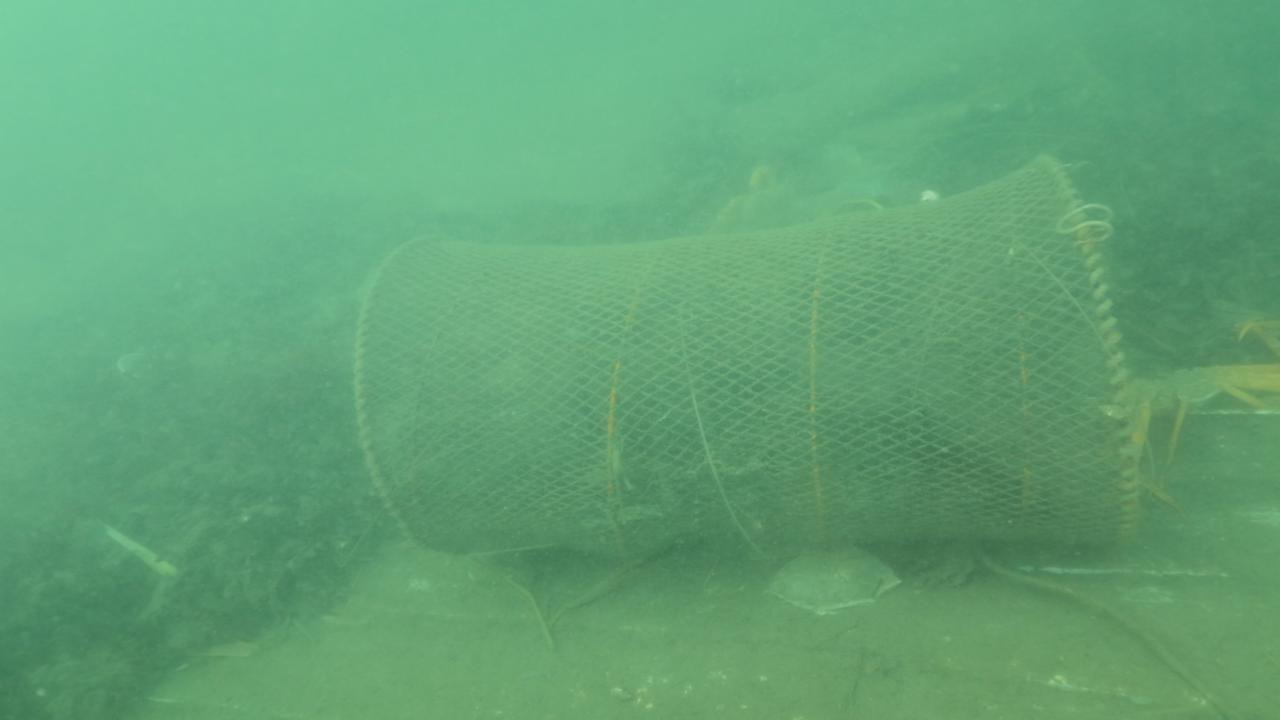spring fish trap: (350, 151, 1146, 554)
